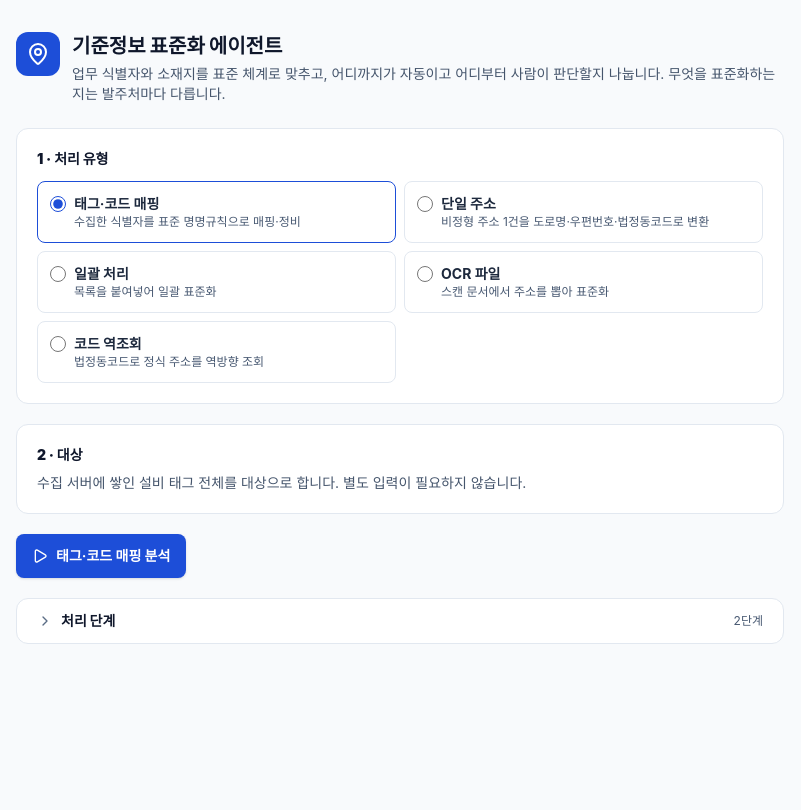
Test: MappingPage › 필터로 상태별 후보만 볼 수 있다
Step 1. Click the button "태그·코드 매핑 분석" → click(101, 556), box [16, 534, 186, 578]
(page scrolled)
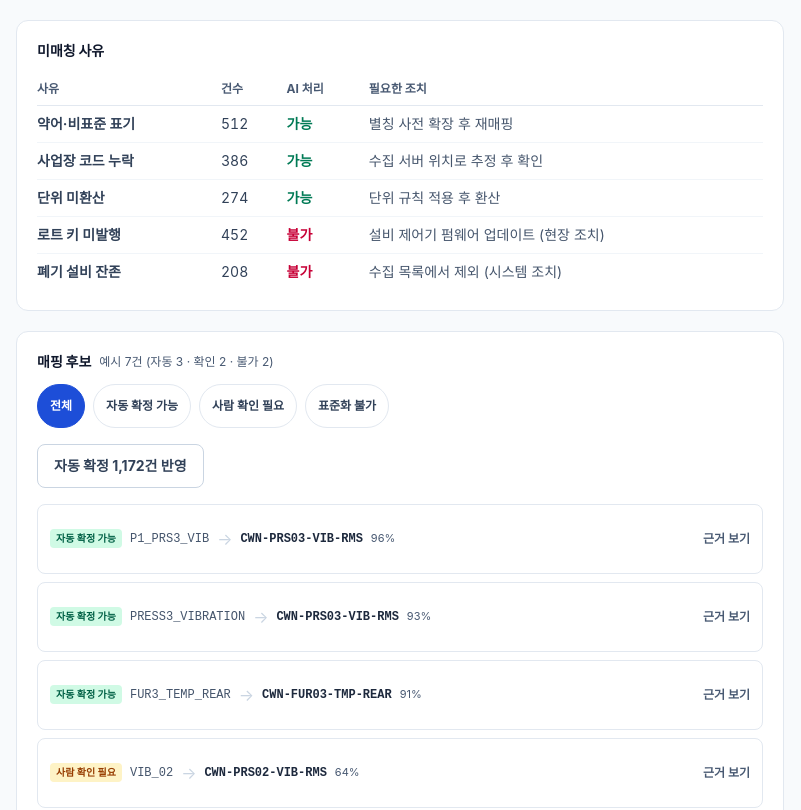
Step 2. Click the button "표준화 불가" → click(347, 406), box [305, 384, 389, 428]
(page scrolled)
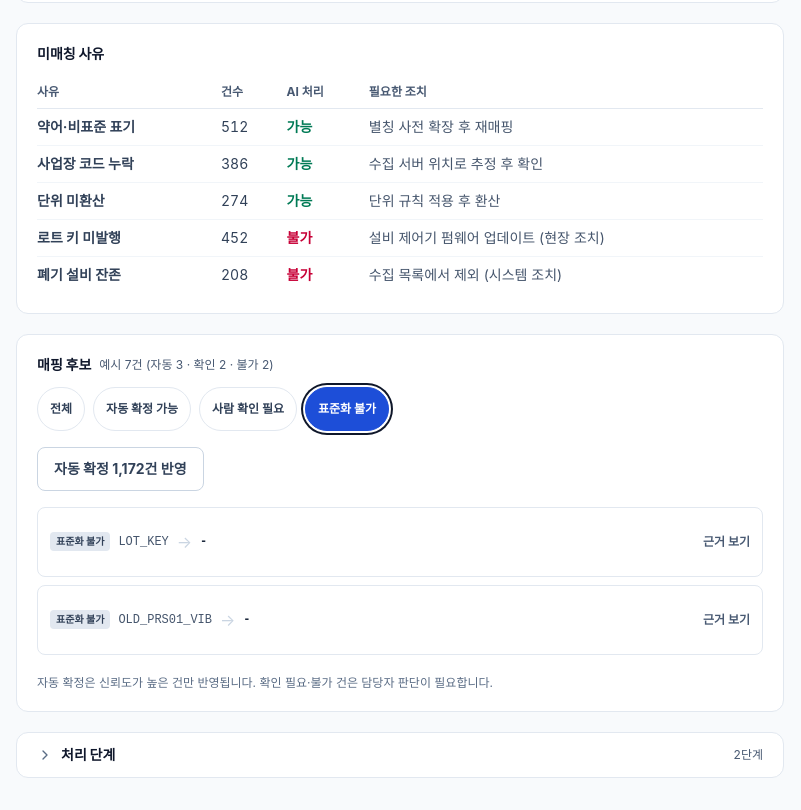
Expected: the element "매핑 후보" shows "LOT_KEY", [118, 534, 169, 548]
Expected: the element "매핑 후보" no longer shows "P1_PRS3_VIB", [16, 334, 784, 712]
